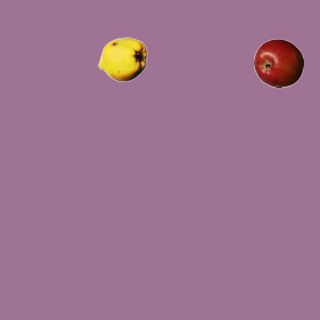Apple Braeburn: (253, 38, 303, 88)
Quince: (97, 34, 147, 84)
